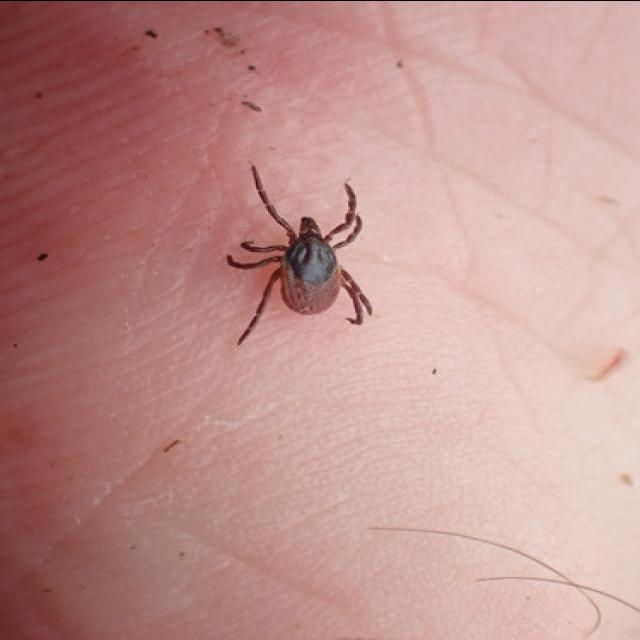Ixodes Ricinus-F: (224, 161, 372, 335)
